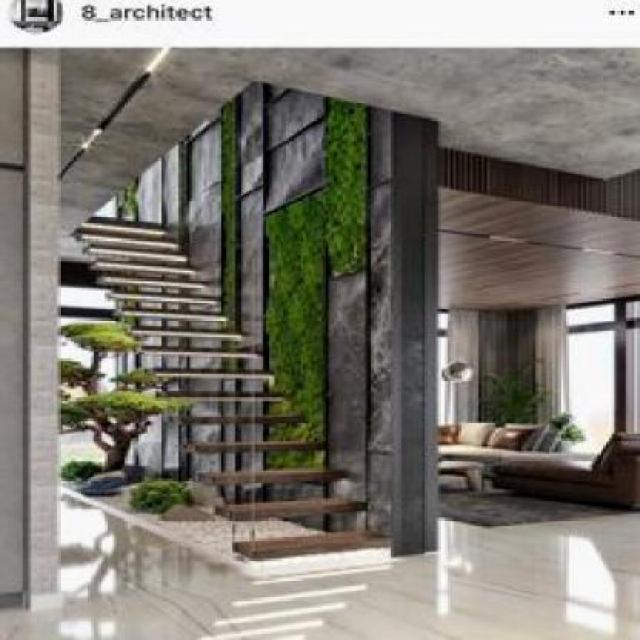stair: (28, 149, 406, 562)
